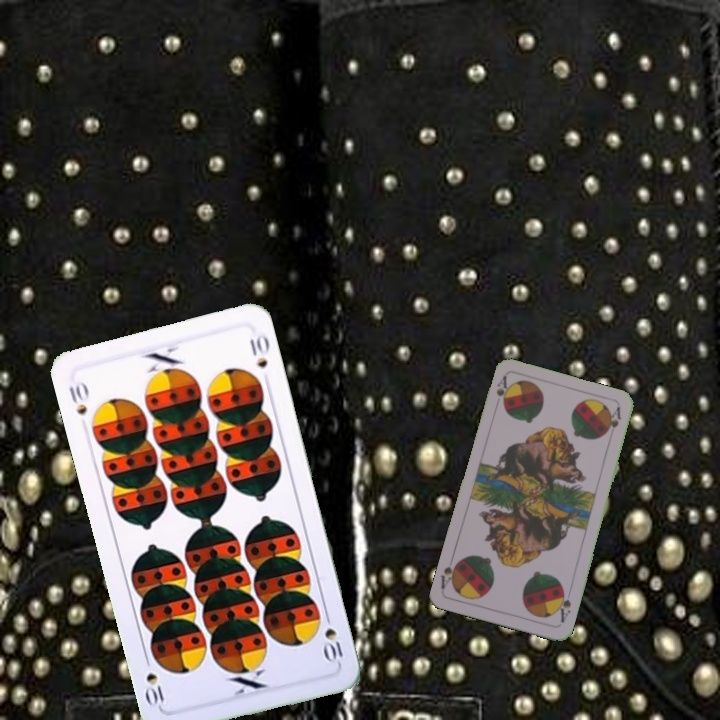S10: (320, 608, 346, 666), (65, 377, 92, 417)
SA: (553, 585, 574, 625), (491, 372, 512, 412)
